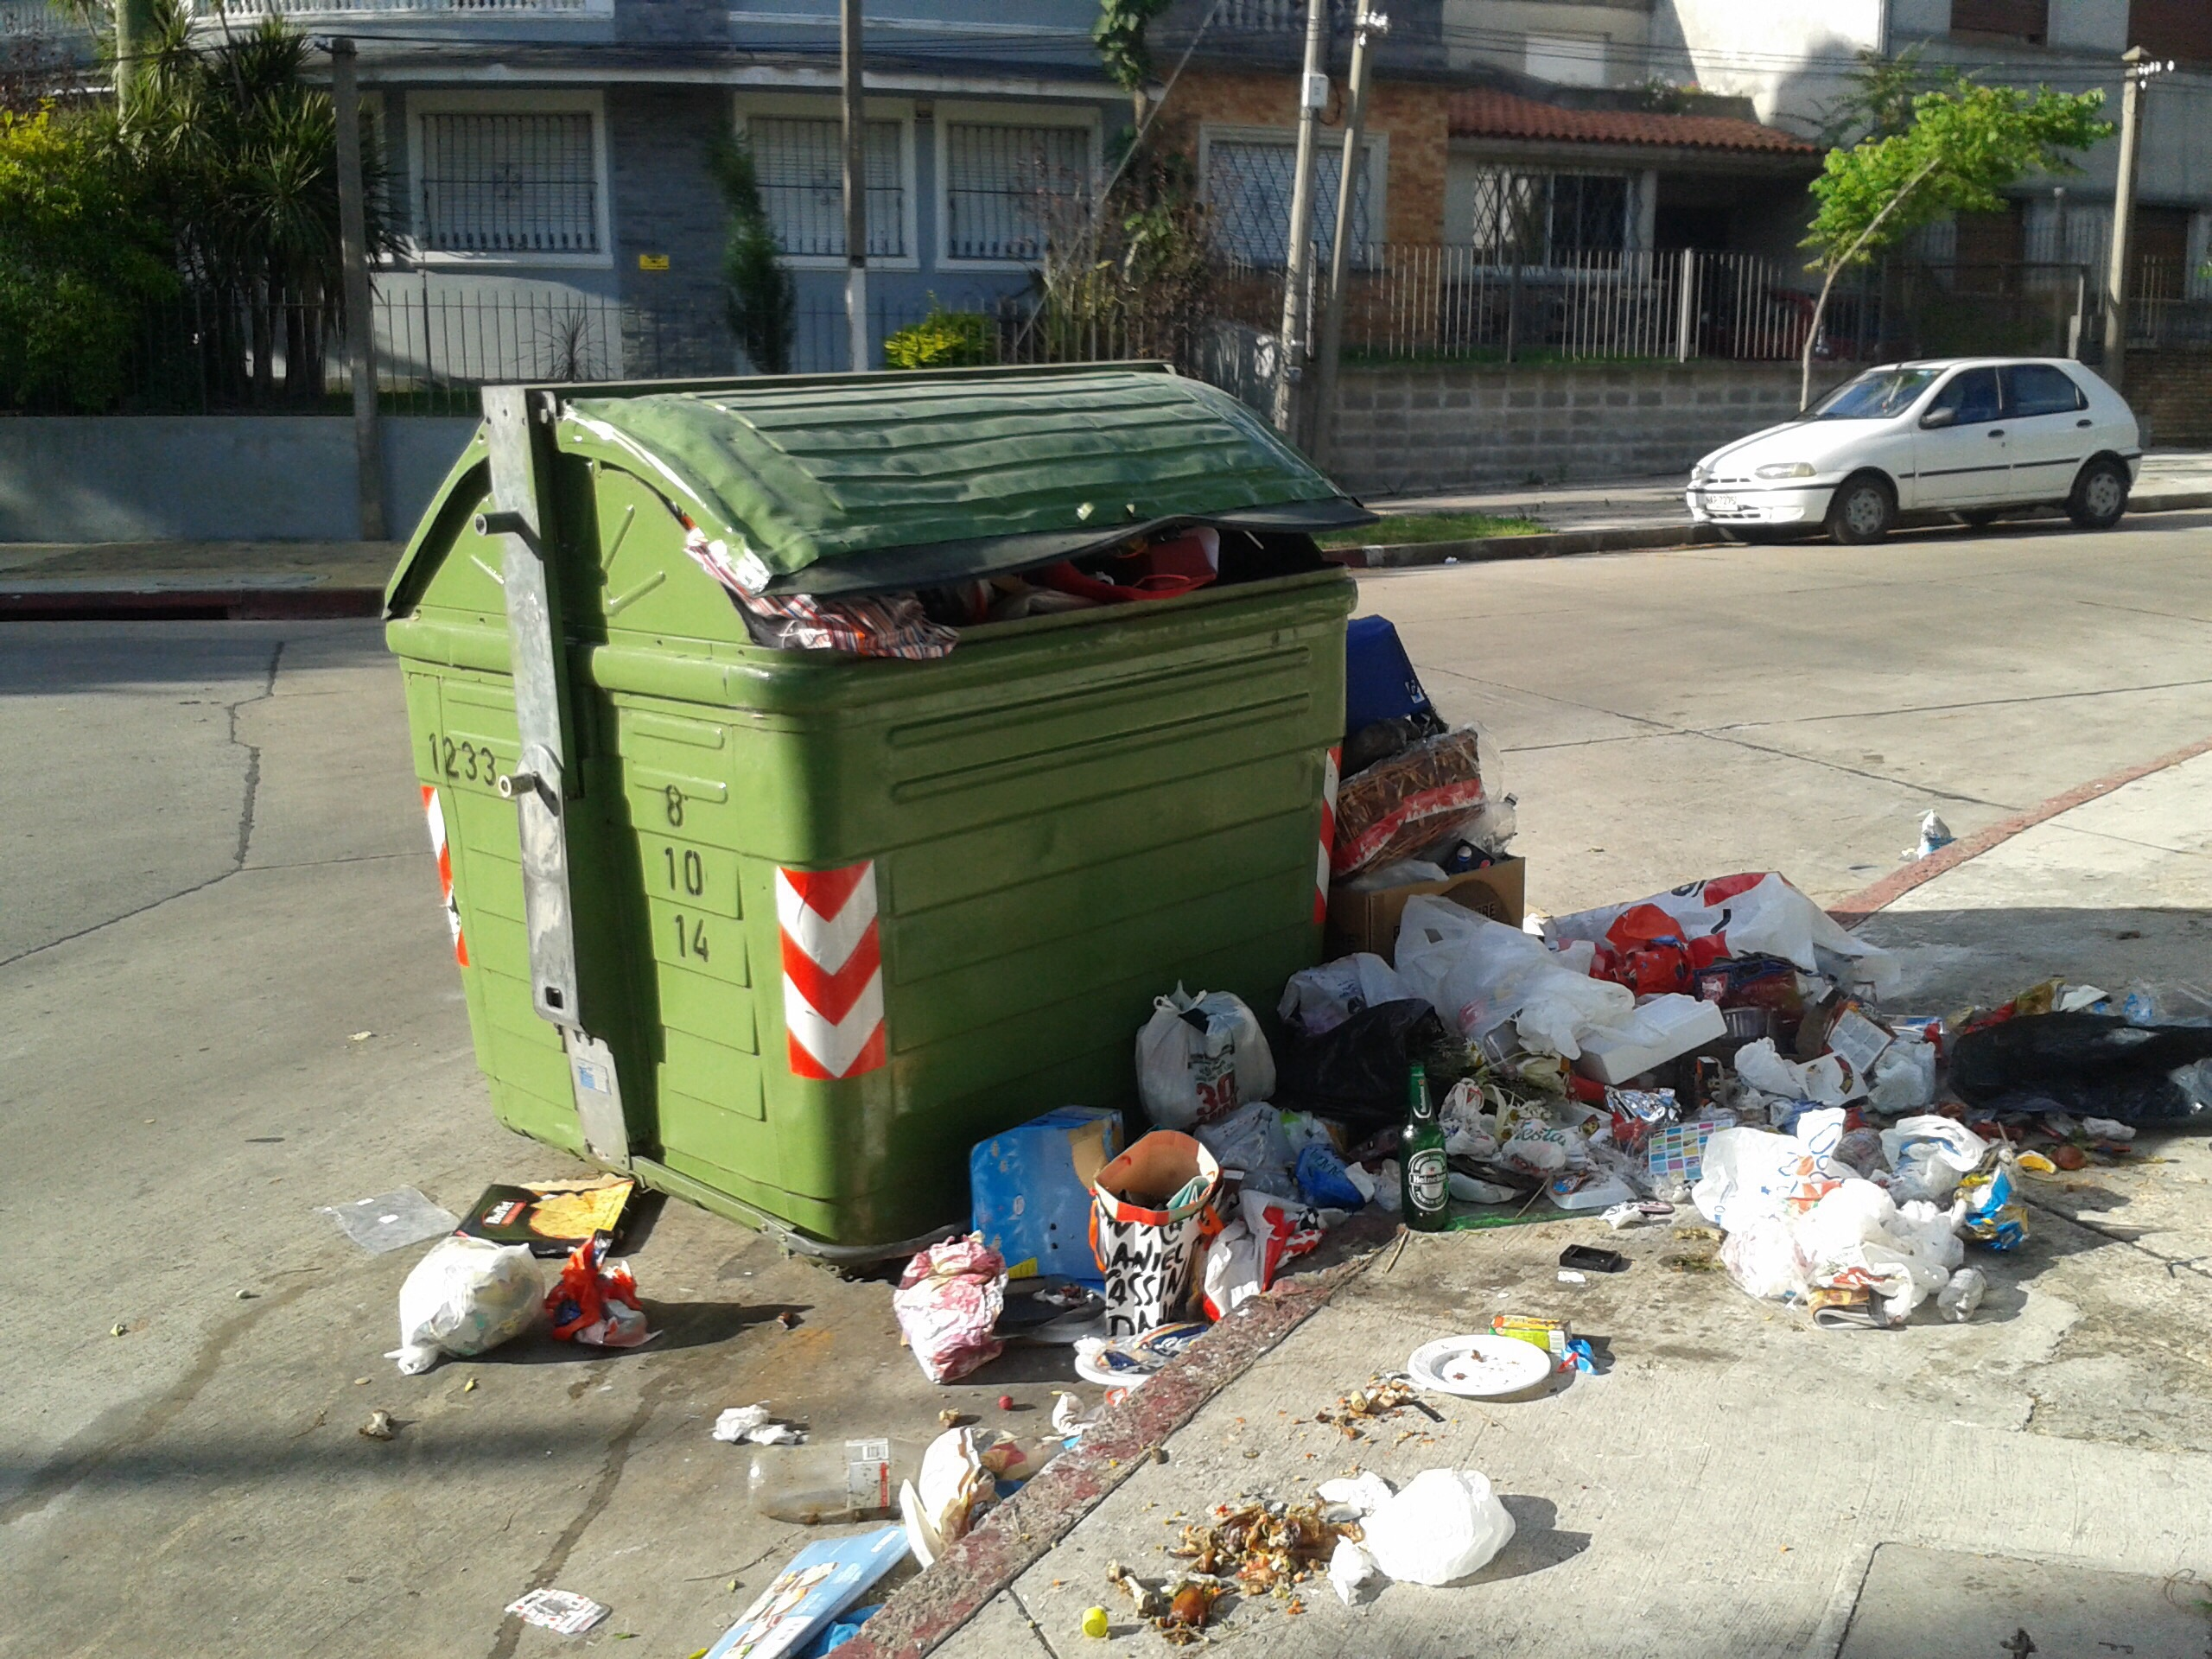container: (371, 343, 1378, 1291)
